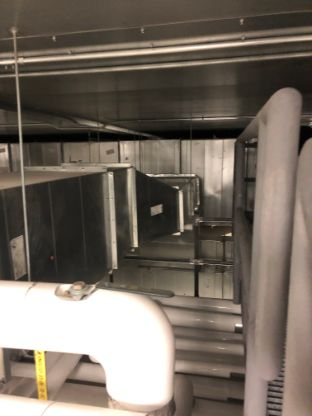Duct: (1, 157, 208, 290), (1, 135, 243, 228)
